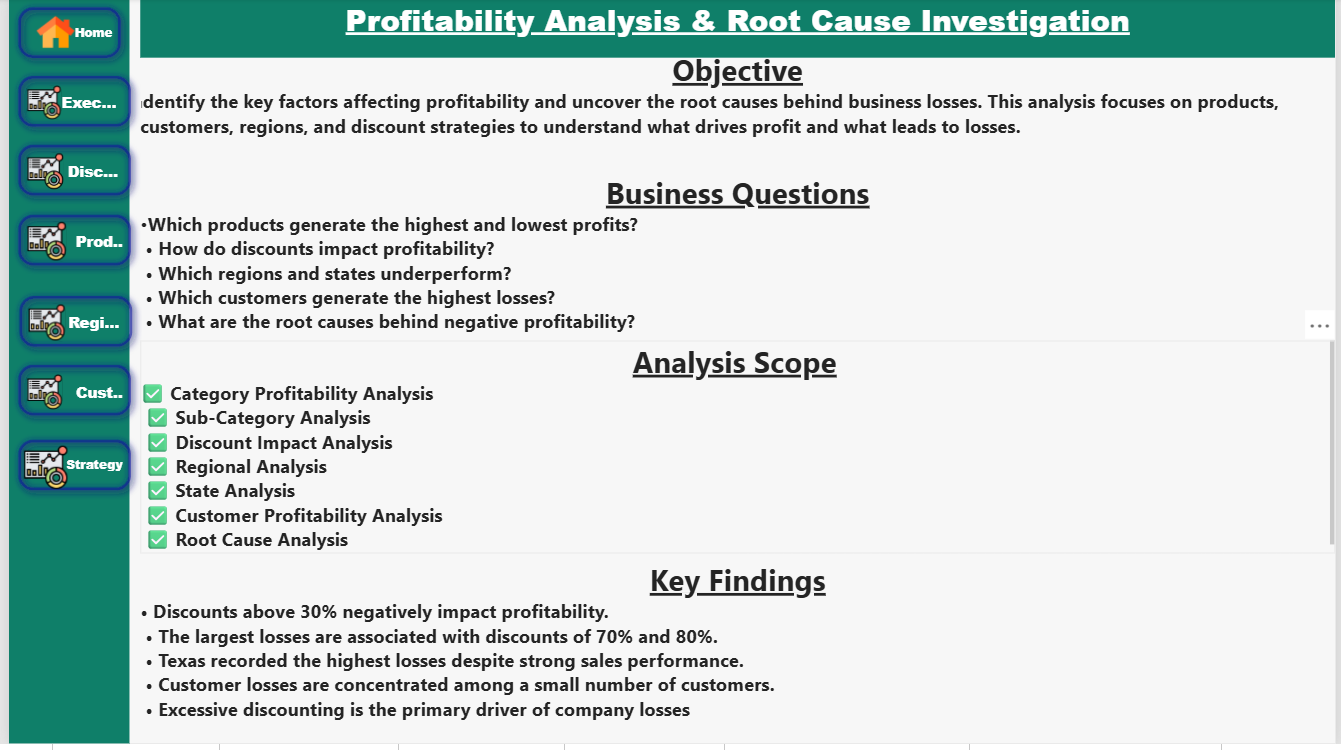

The page's visual inventory and layout, read from the dashboard file:
{"tool":"powerbi","page":{"name":"Home","canvas":[1920,1080],"ordinal":0},"visuals":[{"type":"actionButton","box":[1657,0,255,108],"z":0},{"type":"actionButton","box":[303.2,0,255,108],"z":1000},{"type":"actionButton","box":[574,0,255,108],"z":2000},{"type":"actionButton","box":[844.7,0,255,108],"z":3000},{"type":"actionButton","box":[1386.9,0,255,108],"z":4000},{"type":"actionButton","box":[32.4,0,255,108],"z":5000},{"type":"actionButton","box":[1115.5,0,255,108],"z":6000}]}

Visuals, with their boxes on the page's 1920x1080 design canvas (x1, y1, x2, y2). These are canvas units, not pixel positions in the 1341x750 screenshot, which may show the page scaled, cropped or inside an application window:
actionButton: {"x1": 1657, "y1": 0, "x2": 1912, "y2": 108}
actionButton: {"x1": 303, "y1": 0, "x2": 558, "y2": 108}
actionButton: {"x1": 574, "y1": 0, "x2": 829, "y2": 108}
actionButton: {"x1": 845, "y1": 0, "x2": 1100, "y2": 108}
actionButton: {"x1": 1387, "y1": 0, "x2": 1642, "y2": 108}
actionButton: {"x1": 32, "y1": 0, "x2": 287, "y2": 108}
actionButton: {"x1": 1116, "y1": 0, "x2": 1370, "y2": 108}
